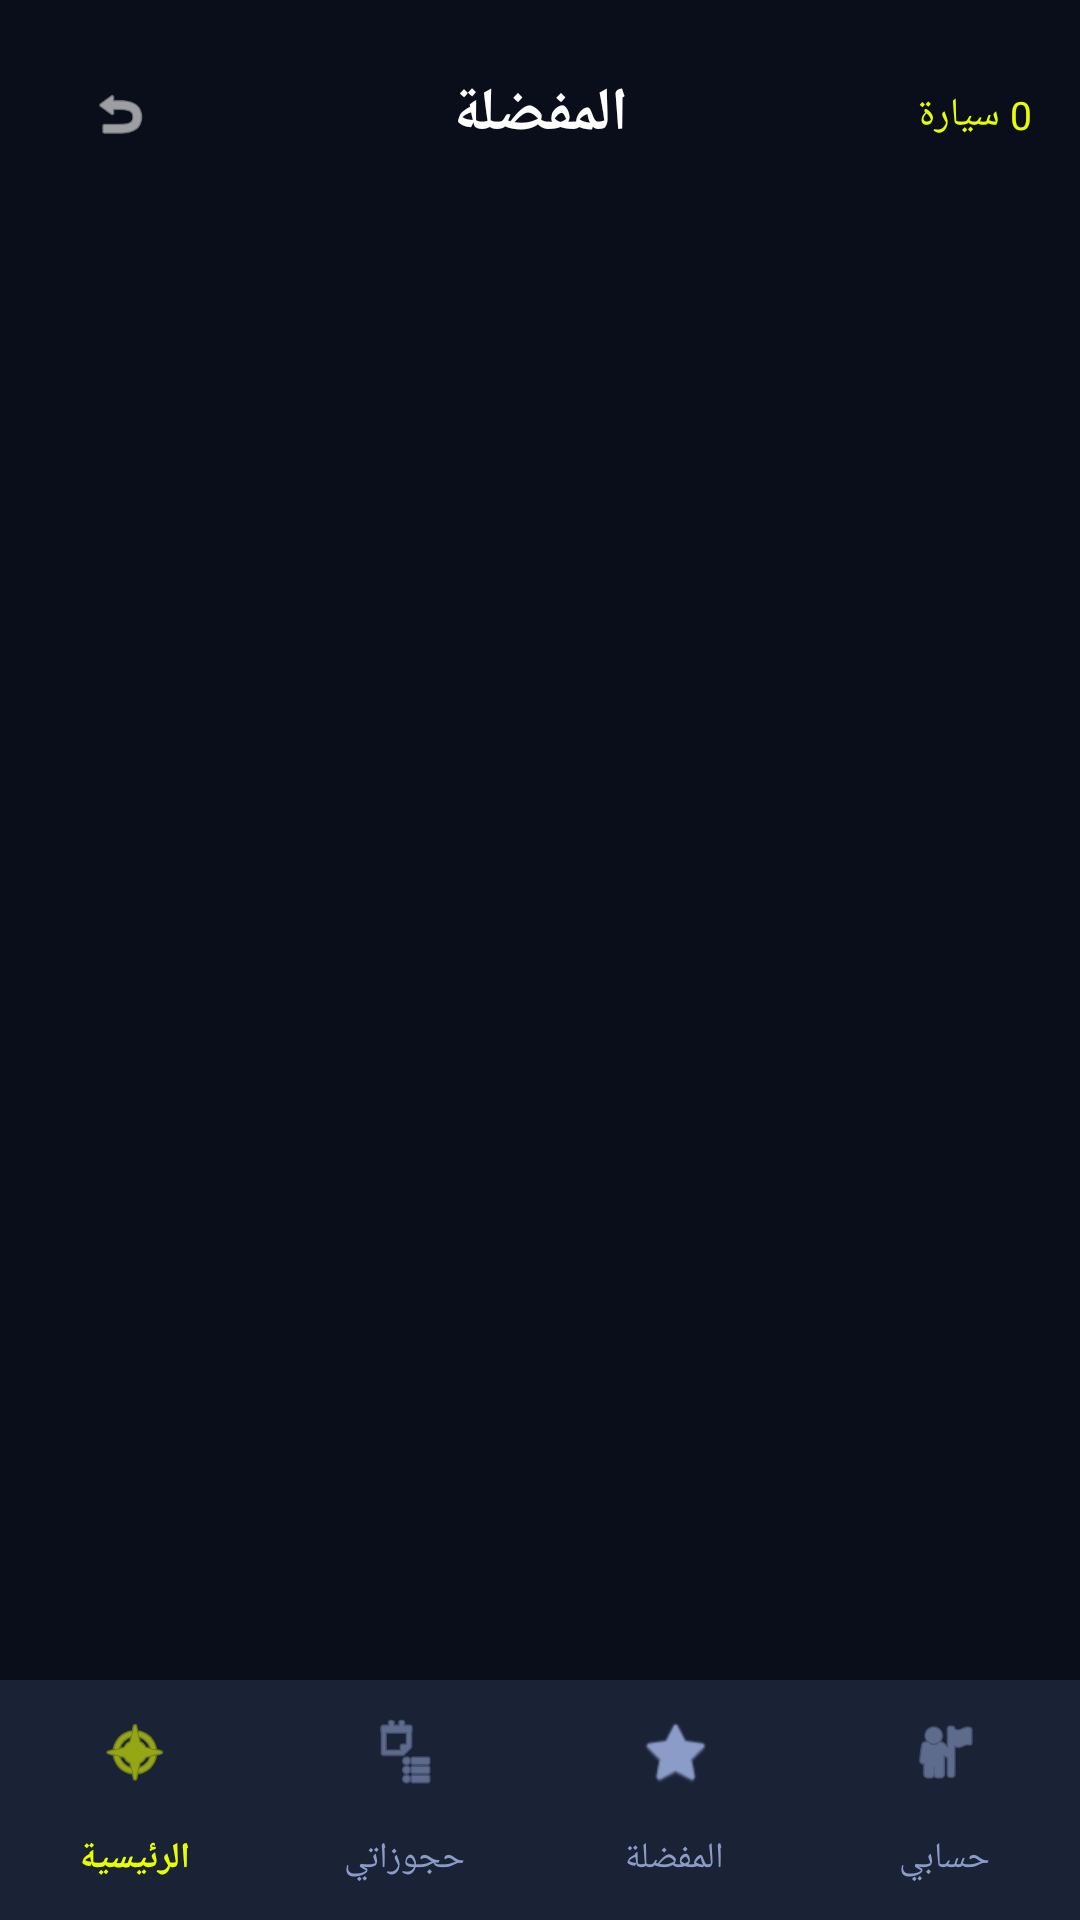

Screen size 1080x1920. Icon name, then its box in pixels as Rect(x1, y1, x2, y2):
revert: Rect(99, 95, 143, 134)
